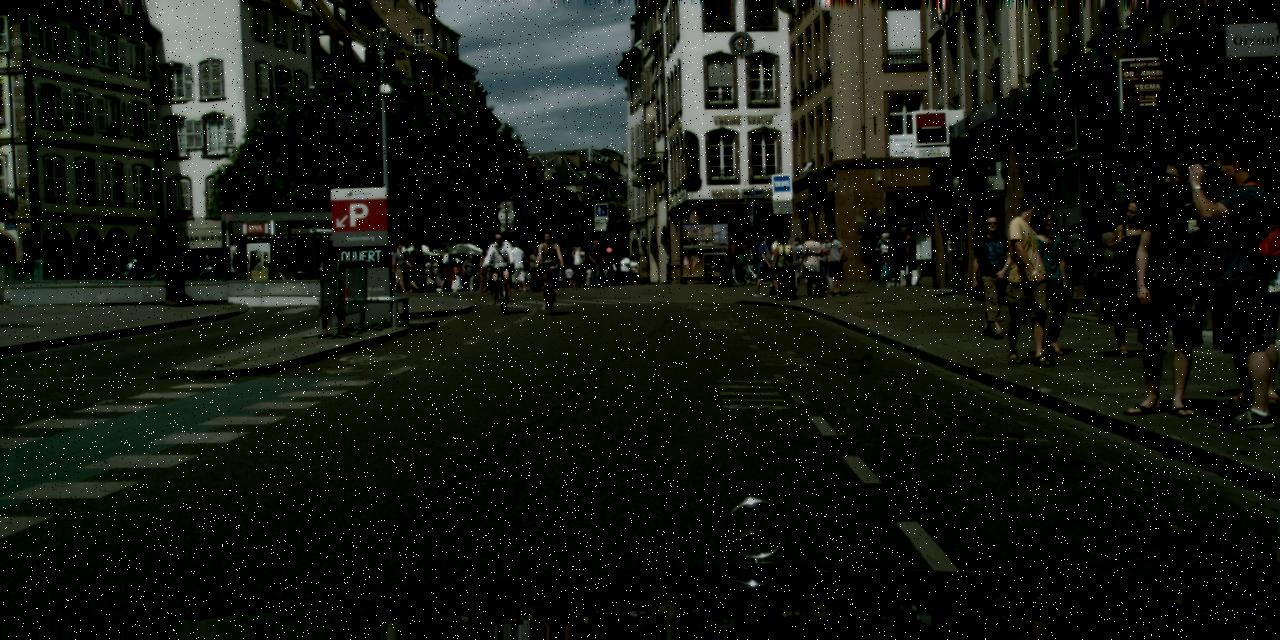ped: (1172, 144, 1278, 428), (1120, 154, 1226, 414), (1211, 179, 1279, 404), (993, 193, 1063, 365), (1108, 201, 1170, 355), (1018, 209, 1078, 354), (968, 214, 1018, 338), (534, 231, 563, 304), (486, 231, 514, 301), (819, 230, 846, 296), (754, 232, 780, 296), (798, 234, 824, 298), (810, 234, 834, 294), (773, 237, 796, 291), (872, 231, 894, 285), (882, 232, 904, 286), (505, 240, 526, 292), (899, 227, 916, 287), (766, 233, 786, 283), (586, 238, 606, 286), (389, 244, 409, 292), (889, 235, 908, 282), (510, 244, 528, 290), (764, 248, 782, 293), (517, 245, 535, 289), (475, 248, 493, 292), (438, 248, 456, 291), (789, 237, 806, 281), (722, 238, 739, 280), (788, 240, 805, 282), (406, 250, 422, 292), (179, 246, 195, 286), (528, 248, 543, 284), (463, 255, 478, 291), (450, 257, 463, 291), (233, 247, 246, 281), (738, 243, 754, 270), (422, 261, 434, 292), (620, 254, 632, 284), (430, 261, 442, 291), (628, 258, 639, 284), (154, 254, 164, 278), (564, 264, 574, 287), (582, 266, 592, 286), (577, 268, 584, 286), (571, 270, 577, 286), (558, 270, 564, 286)
